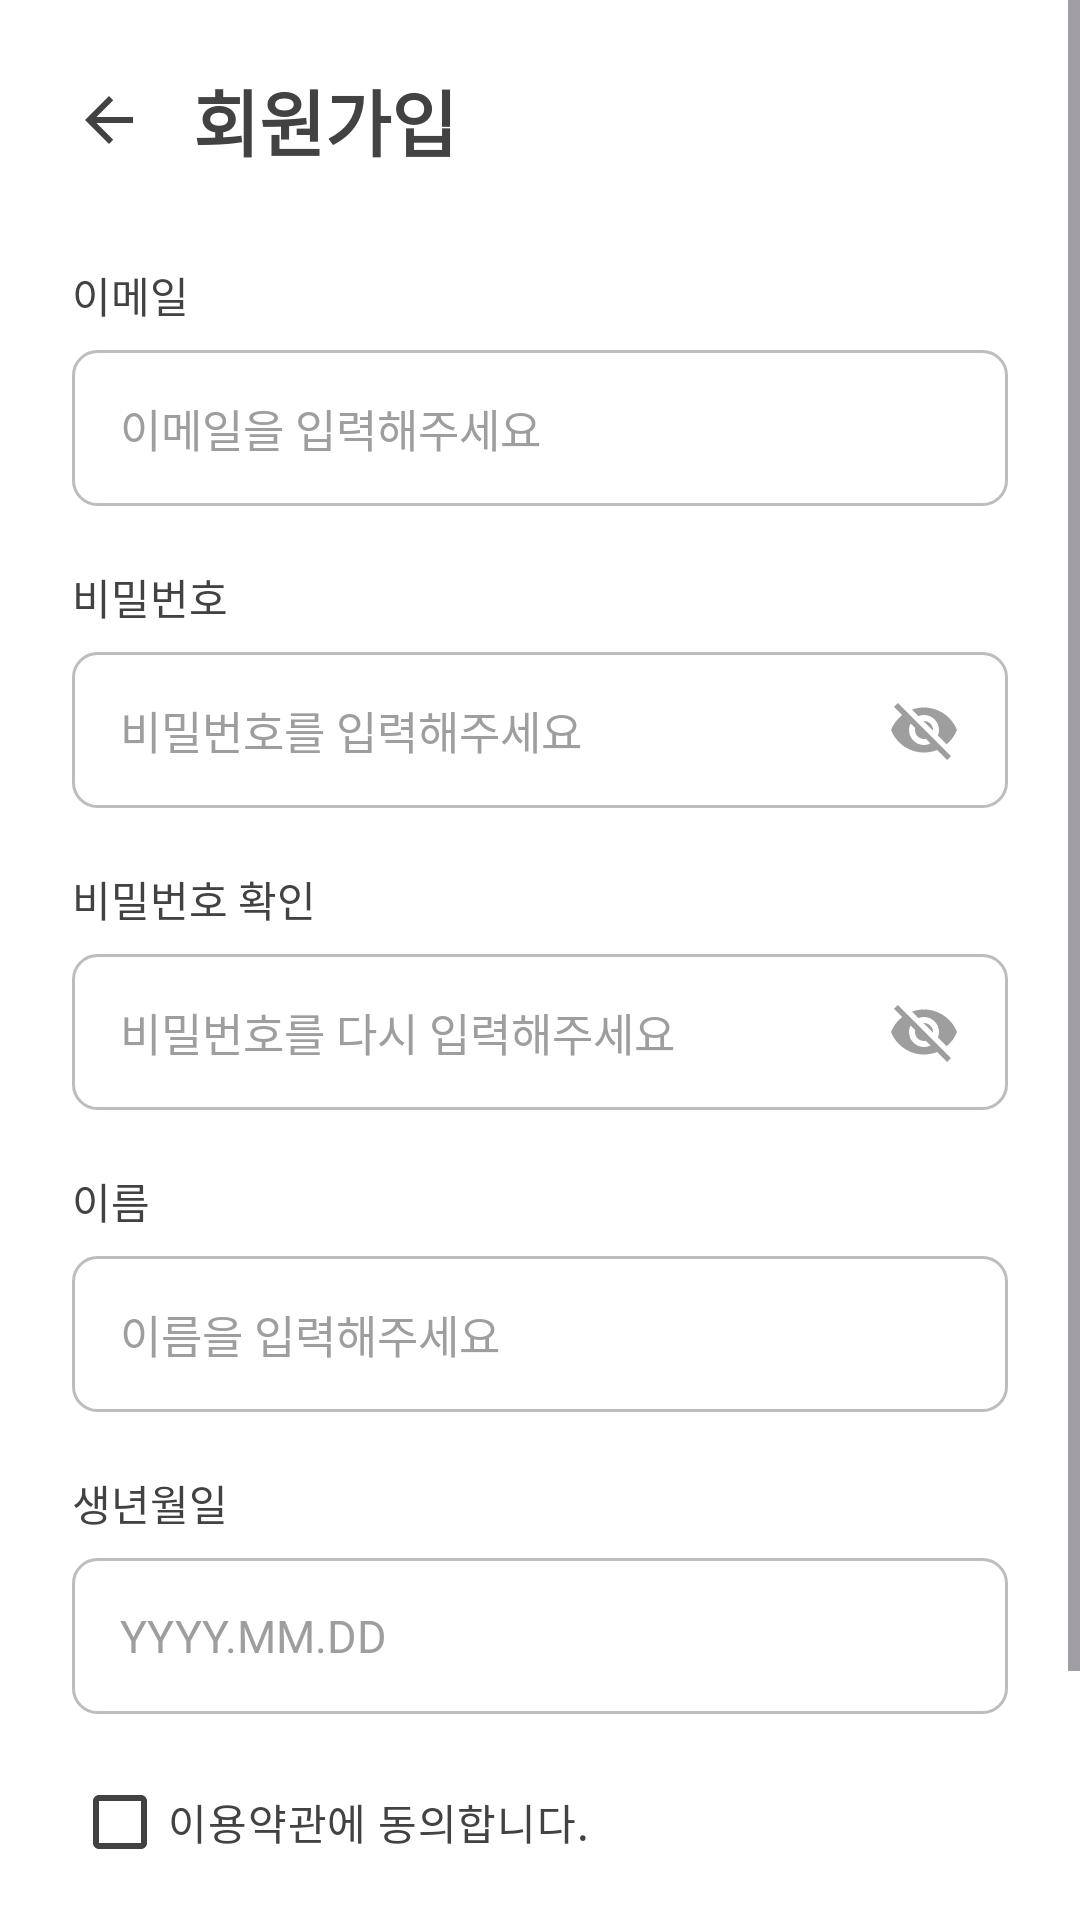

Screen size 1080*1920. Icon name, then its box in pixels as box=[x1, y1, x2, y2]:
비밀번호 보기: box=[891, 703, 957, 760], box=[891, 1005, 957, 1062]
